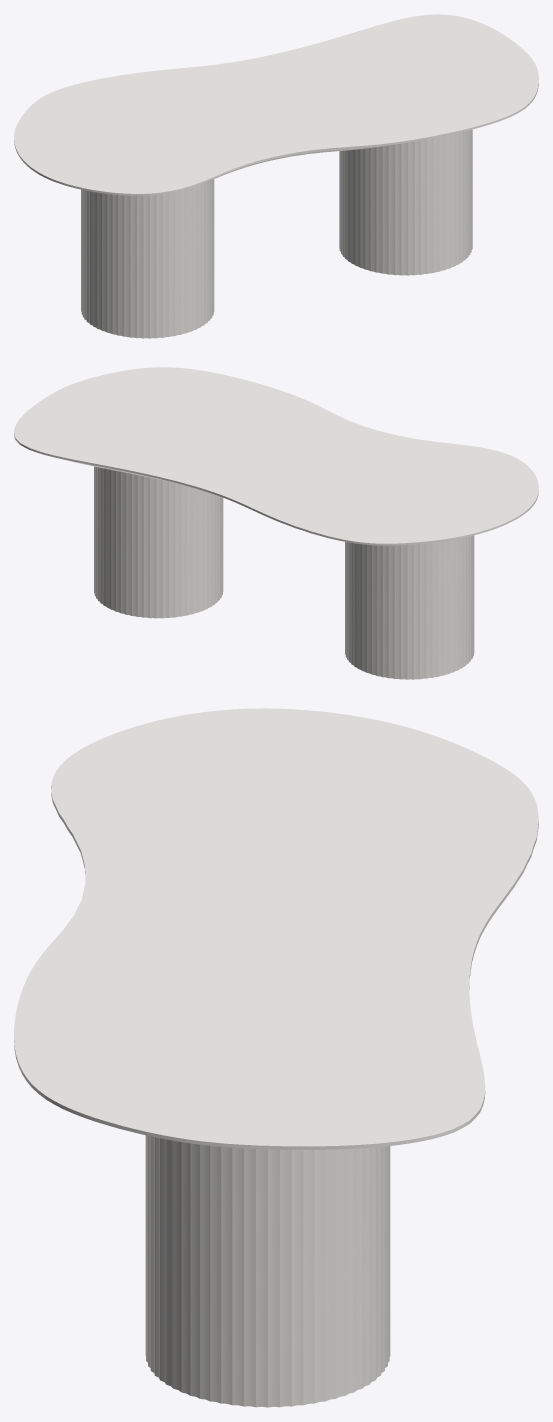
The model's file is purewhite_wave_facet_ripplesecond.glb.
3 views of the same model, one above another, from view 1: azimuth 30°, elevation 25°; view 2: azimuth 150°, elevation 25°; view 3: azimuth 270°, elevation 25° (orthographic). The views are drawn at different scales.
Visible parts, largest first — view 1: facet_wave, ripplesecond; view 2: facet_wave, ripplesecond; view 3: facet_wave, ripplesecond.
Part boxes in pixels (x1,y1,x2,y2): facet_wave: [14, 14, 538, 195]; ripplesecond: [81, 129, 472, 338]; facet_wave: [14, 367, 538, 545]; ripplesecond: [94, 466, 474, 679]; facet_wave: [14, 708, 538, 1149]; ripplesecond: [145, 1135, 390, 1407].
Bounding box in the file's own units: 7.5 × 2.5 × 3.8.
Materials: 1 (1 with a texture image).
